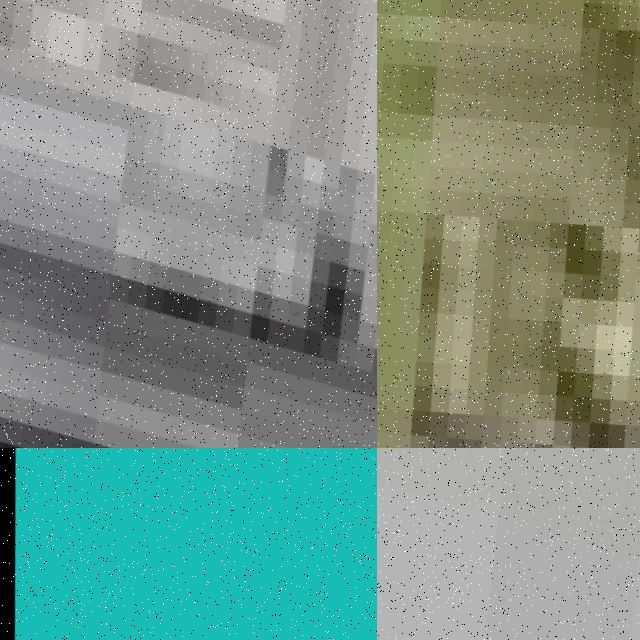0: (0, 0, 377, 448), (377, 448, 640, 640)
drone: (0, 448, 377, 640)
